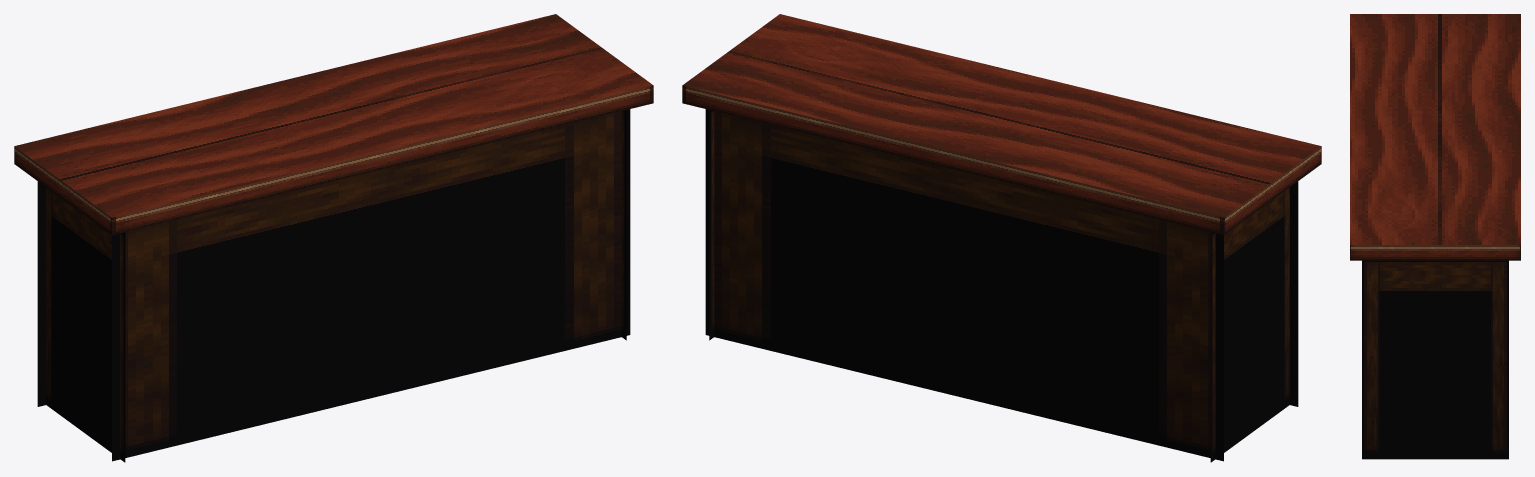
The model's file is prop_table-av-0.glb.
3 views of the same model, side by side, from view 1: azimuth 30°, elevation 25°; view 2: azimuth 150°, elevation 25°; view 3: azimuth 270°, elevation 25° (orthographic). The views are drawn at different scales.
Parts seen in each view (by area): view 1: prop_table-av-0; view 2: prop_table-av-0; view 3: prop_table-av-0.
Part boxes in pixels (<box>): prop_table-av-0: <box>14,14,653,462</box>; prop_table-av-0: <box>682,14,1321,462</box>; prop_table-av-0: <box>1350,14,1520,459</box>.
Size of the model in its own units: 1.6 by 0.72 by 0.5.
Materials: 2 (2 with a texture image).
